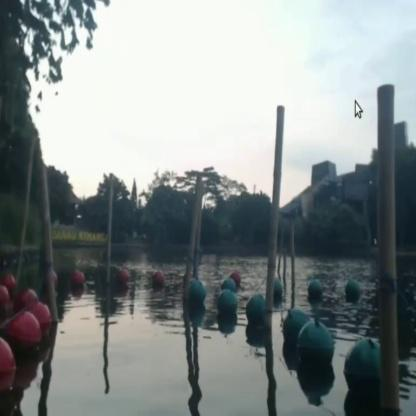green_buoy: (344, 337, 381, 399), (295, 321, 336, 375), (280, 306, 304, 344), (216, 288, 236, 324), (188, 279, 207, 316), (245, 293, 264, 329), (344, 277, 360, 302), (306, 276, 322, 300), (224, 279, 236, 297), (272, 280, 281, 302)
red_buoy: (11, 314, 41, 358), (0, 333, 15, 393), (40, 302, 56, 338), (0, 288, 25, 304), (22, 288, 36, 310), (72, 272, 84, 292), (230, 267, 241, 285), (4, 272, 15, 290), (154, 270, 160, 287)
